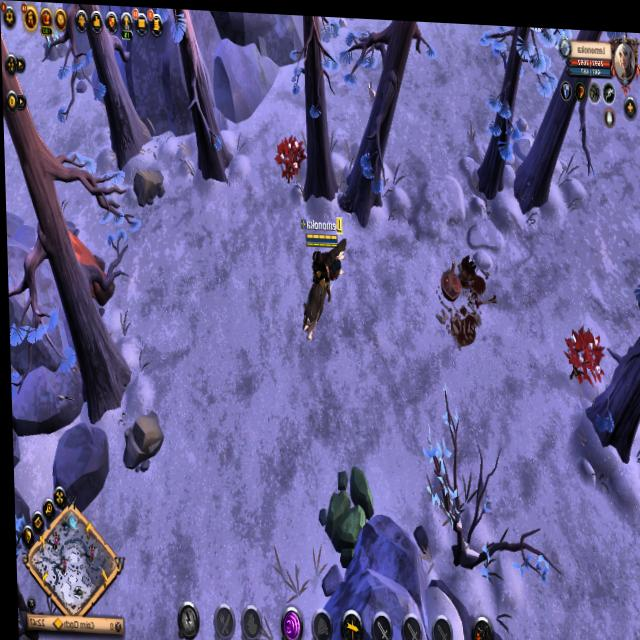fiber tier 5: (562, 317, 603, 386), (276, 130, 303, 178)
rock tier 1: (116, 405, 161, 476), (130, 161, 163, 211)
rock tier 3: (314, 460, 371, 564)
